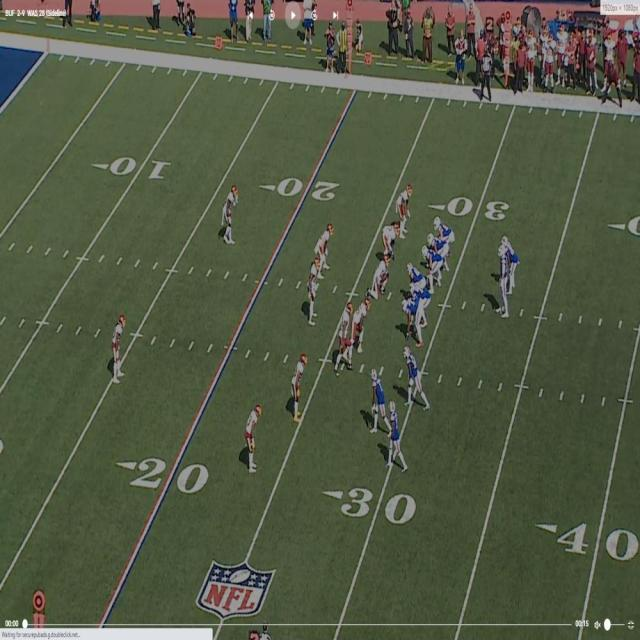center: (406, 262, 426, 296)
db: (248, 402, 262, 469), (223, 186, 239, 238), (111, 314, 123, 377), (295, 359, 305, 421)
lb: (306, 258, 320, 326), (317, 224, 333, 270), (399, 186, 414, 230), (500, 233, 515, 270)
qb: (499, 248, 509, 320)
skill: (404, 347, 424, 410), (389, 400, 405, 469), (369, 370, 386, 432), (433, 211, 454, 247)
